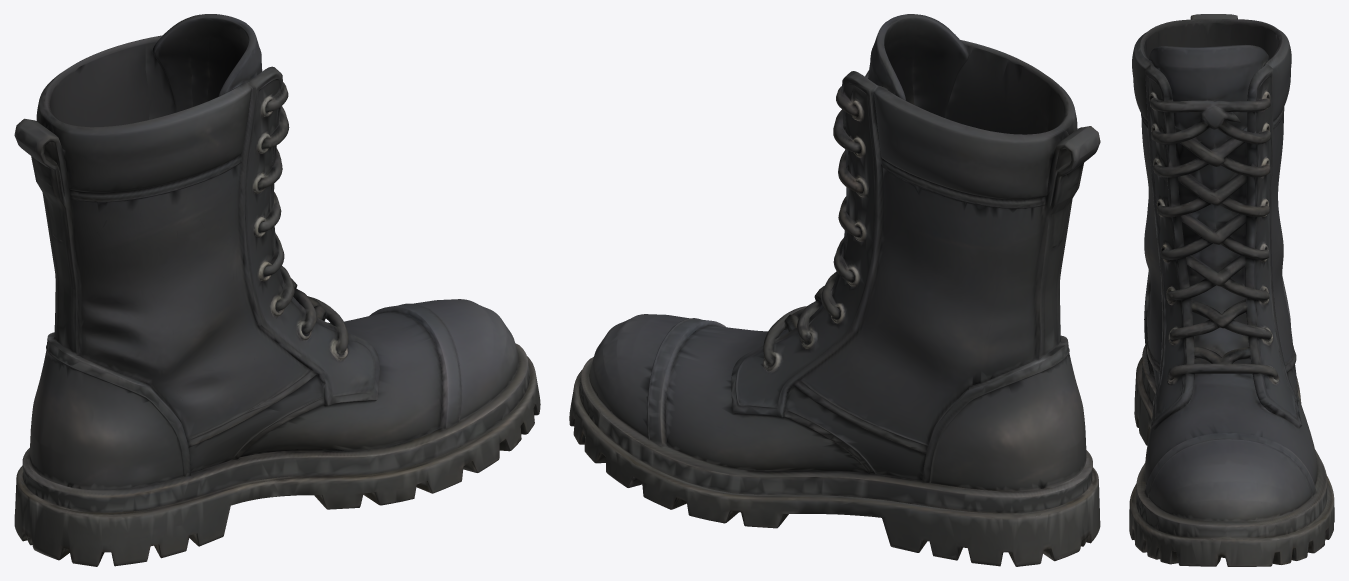
Rendered from kick_boot.glb.
3 views of the same model, side by side, from view 1: azimuth 30°, elevation 25°; view 2: azimuth 150°, elevation 25°; view 3: azimuth 270°, elevation 25° (orthographic). The views are drawn at different scales.
Visible parts, largest first — view 1: node_0; view 2: node_0; view 3: node_0.
Part boxes in pixels (x1=…): node_0: x1=14, y1=14, x2=540, y2=566; node_0: x1=569, y1=14, x2=1100, y2=566; node_0: x1=1129, y1=14, x2=1334, y2=566.
Size of the model in its own units: 0.9006 by 0.8054 by 0.3561.
1 material, 1 textured.
